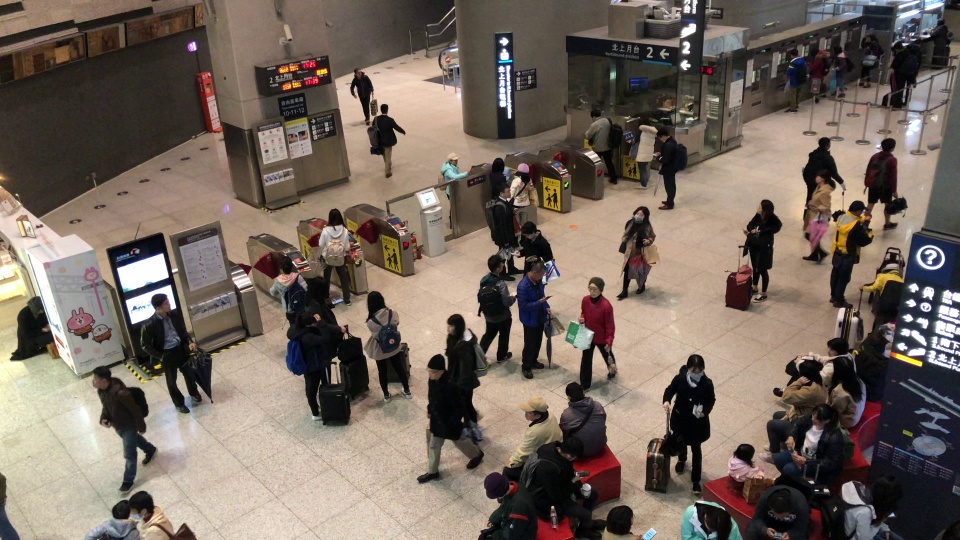person_head: (872, 473, 902, 507), (606, 502, 634, 534), (481, 470, 511, 499), (517, 396, 549, 422), (809, 402, 837, 429), (129, 490, 153, 519), (768, 490, 792, 519), (559, 435, 584, 462), (832, 357, 855, 385), (425, 352, 446, 380), (799, 362, 822, 387), (703, 510, 728, 532), (90, 365, 111, 391), (685, 352, 705, 379), (365, 290, 387, 314), (825, 336, 849, 358), (148, 292, 171, 314), (446, 311, 464, 339), (309, 276, 329, 300), (734, 443, 756, 464), (584, 276, 605, 297), (485, 252, 504, 275), (297, 309, 320, 327), (112, 498, 131, 519), (565, 381, 584, 401), (756, 198, 774, 217), (520, 220, 538, 239), (530, 261, 547, 281), (27, 295, 43, 316), (327, 207, 344, 226), (632, 205, 649, 224), (880, 136, 897, 154), (815, 167, 831, 184), (849, 200, 867, 215), (491, 156, 505, 174), (499, 183, 512, 201), (280, 256, 292, 274), (655, 128, 670, 142), (517, 162, 530, 178), (817, 136, 831, 150), (882, 263, 901, 272), (446, 151, 458, 165), (589, 107, 602, 119), (866, 32, 876, 43), (894, 41, 905, 51), (833, 44, 842, 56), (380, 102, 388, 115), (809, 46, 819, 56), (640, 119, 650, 128), (789, 48, 799, 57), (354, 68, 362, 78), (912, 38, 921, 46), (937, 17, 946, 24)
person_vbox: (416, 352, 486, 484), (518, 435, 606, 539), (91, 365, 157, 492), (661, 352, 716, 496), (139, 293, 201, 414), (757, 361, 829, 462), (771, 402, 856, 485), (819, 471, 903, 539), (363, 290, 413, 404), (284, 309, 333, 422), (771, 336, 857, 397), (829, 199, 876, 310), (744, 473, 815, 540), (443, 312, 487, 419), (502, 395, 564, 469), (476, 253, 517, 364), (516, 261, 553, 382), (579, 275, 617, 392), (741, 198, 782, 304), (477, 469, 538, 540), (485, 182, 526, 282), (614, 205, 657, 300), (557, 381, 607, 459), (317, 207, 355, 306), (863, 136, 899, 232), (129, 489, 195, 540), (801, 135, 847, 207), (858, 261, 904, 332), (305, 275, 345, 356), (584, 106, 623, 187), (826, 356, 867, 429), (366, 102, 405, 177), (800, 166, 830, 263), (8, 295, 51, 361), (655, 127, 688, 211), (438, 150, 472, 228), (513, 220, 553, 285), (269, 255, 309, 315), (679, 501, 742, 539), (627, 117, 658, 191), (84, 498, 139, 539), (783, 46, 809, 116), (727, 442, 765, 487), (509, 162, 535, 227), (855, 32, 884, 90), (602, 503, 646, 539), (349, 67, 375, 126), (807, 45, 830, 107), (831, 43, 855, 102), (903, 39, 922, 108), (891, 41, 909, 93), (488, 156, 507, 199), (930, 16, 954, 45)
